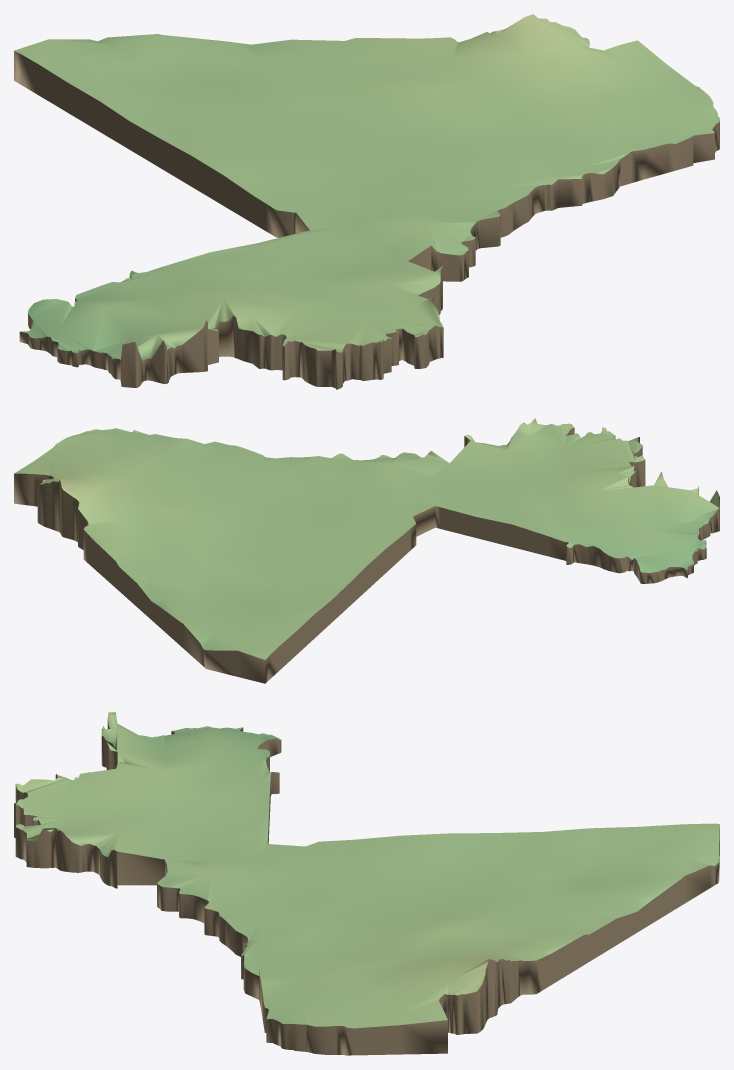
Rendered from MLI.glb.
3 renders of one model, top to bottom at view 1: azimuth 30°, elevation 25°; view 2: azimuth 150°, elevation 25°; view 3: azimuth 270°, elevation 25°, orthographic. The views are drawn at different scales.
Visible parts, largest first — view 1: MLI; view 2: MLI; view 3: MLI.
Part boxes in pixels (x1,y1,x2,y2): MLI: (14,14,719,389); MLI: (14,418,719,683); MLI: (14,712,719,1055).
Size of the model in its own units: 1.66 by 0.1444 by 1.55.
